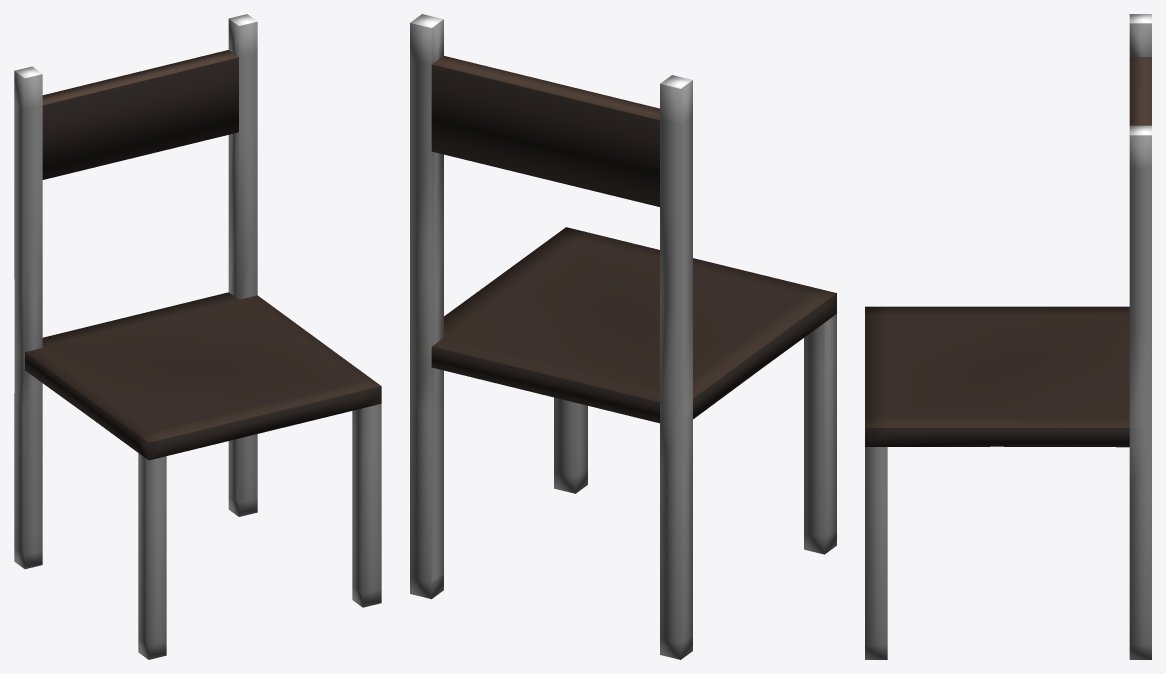
Rendered from furnishings-chairs-schoolchair_v1.glb.
3 renders of one model, left to right at view 1: azimuth 30°, elevation 25°; view 2: azimuth 150°, elevation 25°; view 3: azimuth 270°, elevation 25°, orthographic. The views are drawn at different scales.
Parts seen in each view (by area): view 1: SchoolChair_base, SchoolChair_refl; view 2: SchoolChair_base, SchoolChair_refl; view 3: SchoolChair_base, SchoolChair_refl.
Boxes of the visible parts, left/top/right/bottom form: SchoolChair_base: left=25, top=50, right=381, bottom=460; SchoolChair_refl: left=14, top=14, right=381, bottom=659; SchoolChair_base: left=431, top=56, right=836, bottom=423; SchoolChair_refl: left=410, top=14, right=836, bottom=659; SchoolChair_base: left=865, top=57, right=1151, bottom=447; SchoolChair_refl: left=865, top=14, right=1151, bottom=659.
Bounding box in the file's own units: 0.6376 × 1.28 × 0.6368.
